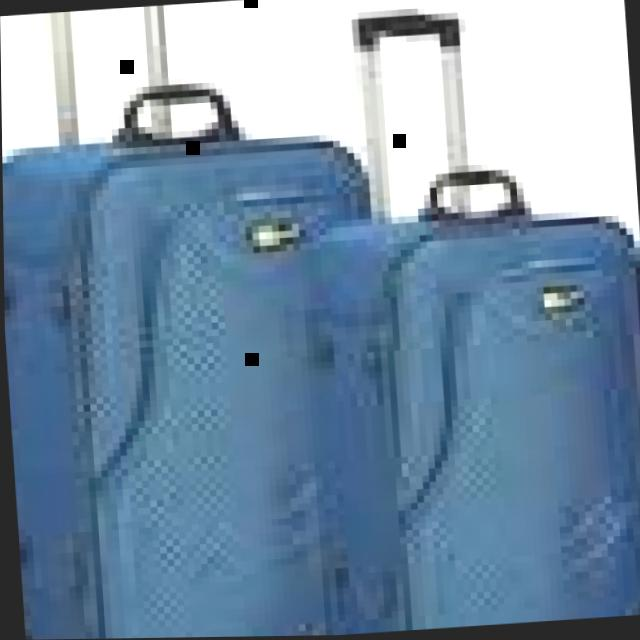luggage: (1, 58, 404, 640), (288, 149, 640, 637)
